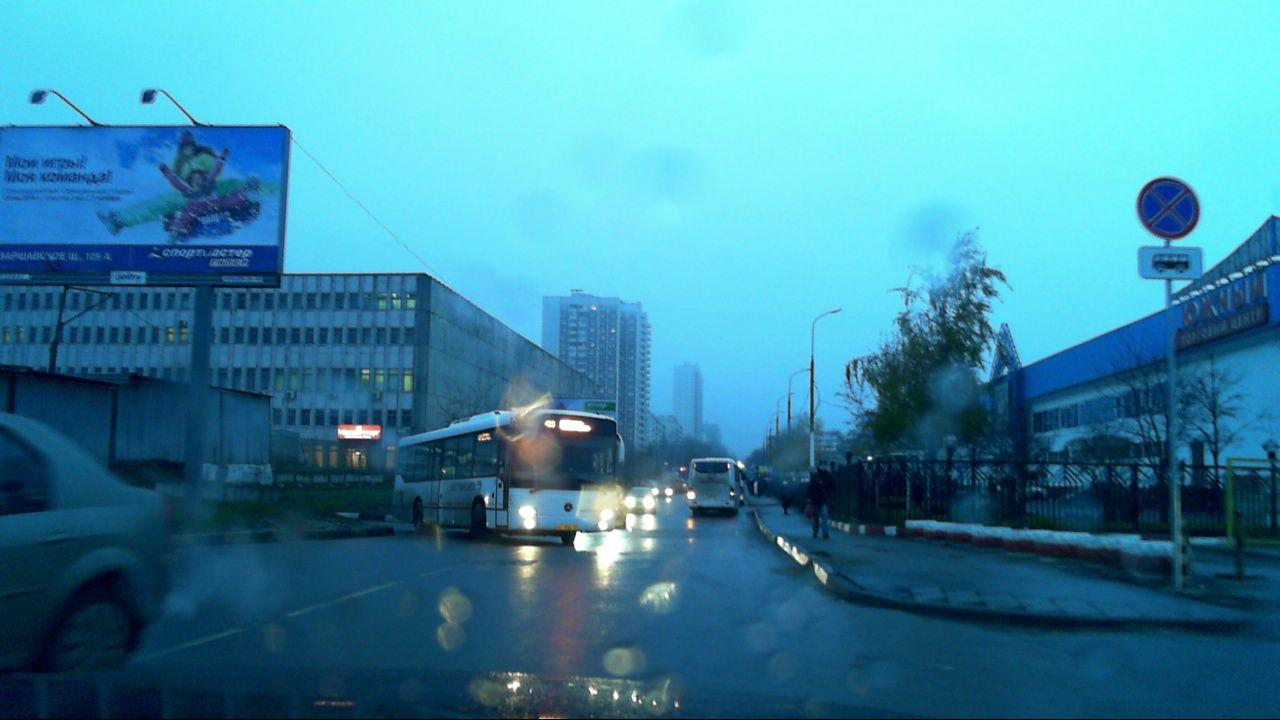3_27: (1136, 173, 1199, 238)
8_4_4: (1139, 246, 1203, 278)
